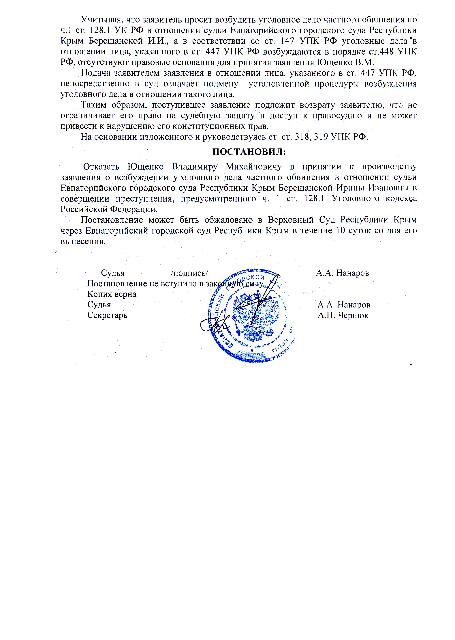stamp: (206, 268, 296, 364)
